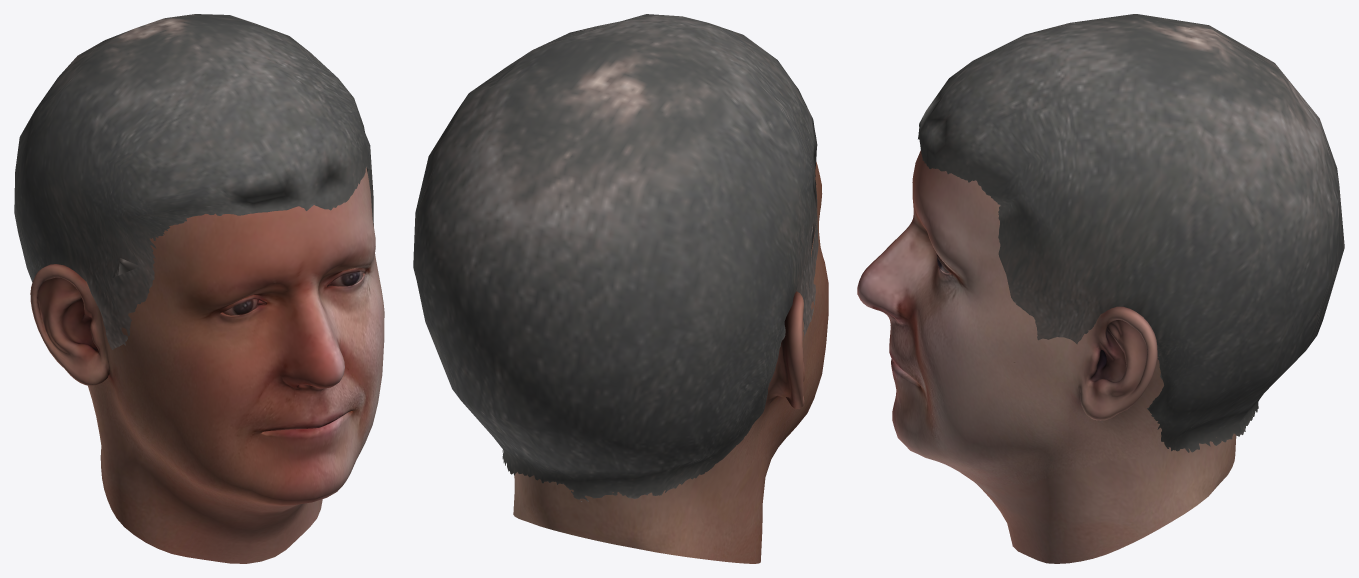
The model's file is head_with_haircut.fbx.
3 renders of one model, left to right at view 1: azimuth 30°, elevation 25°; view 2: azimuth 150°, elevation 25°; view 3: azimuth 270°, elevation 25°, orthographic. The views are drawn at different scales.
Visible parts, largest first — view 1: Head; view 2: Head; view 3: Head.
Part boxes in pixels (<box>): Head: <box>14,14,384,563</box>; Head: <box>413,14,828,563</box>; Head: <box>857,14,1344,563</box>.
Bounding box in the file's own units: 0.1918 × 0.2716 × 0.2359.
